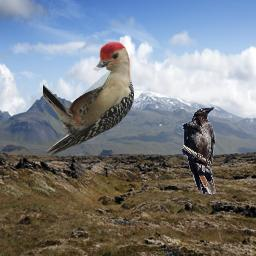Crow: (182, 106, 216, 195)
Woodpecker: (43, 41, 134, 161)
